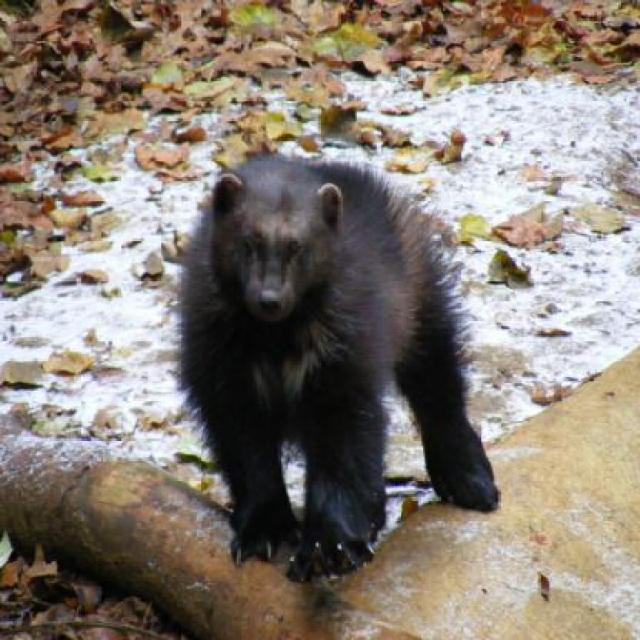Bear: (170, 152, 501, 583)
